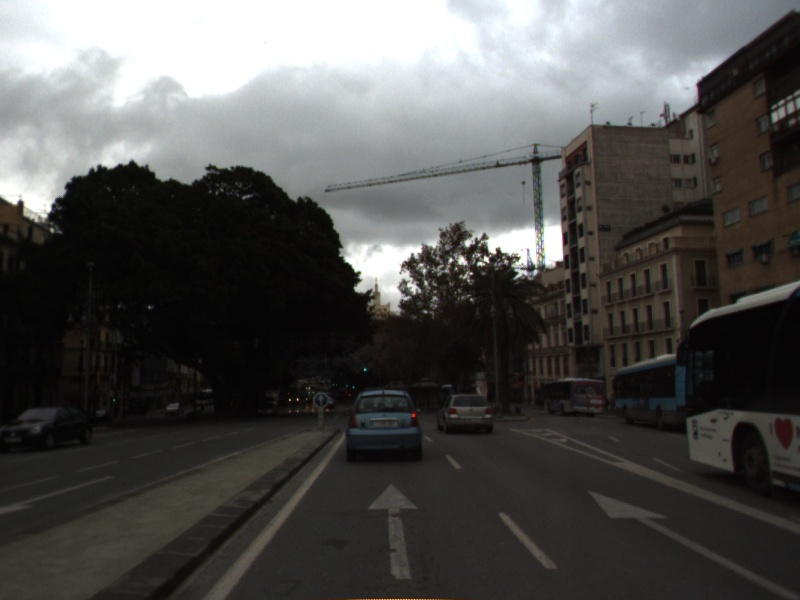STRAIGHT: (584, 487, 800, 600), (364, 481, 422, 582)
